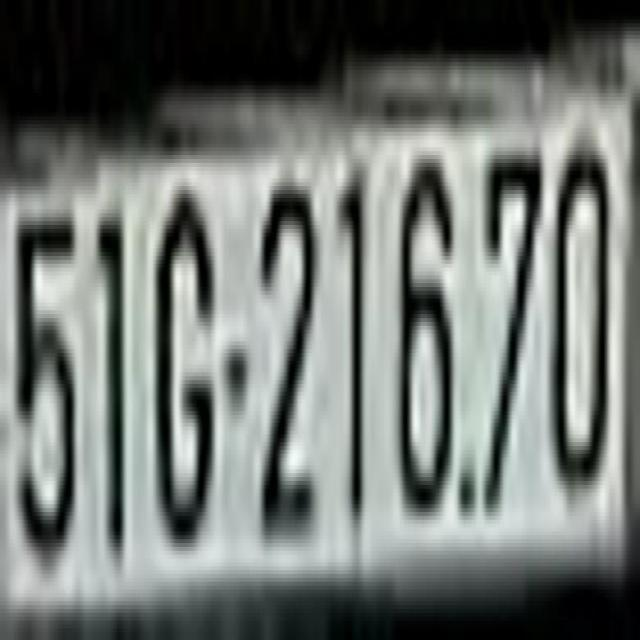0: (550, 132, 610, 504)
1: (336, 163, 366, 551), (98, 206, 128, 582)
2: (256, 182, 318, 558)
5: (13, 198, 79, 566)
6: (398, 144, 456, 544)
7: (476, 136, 544, 524)
G: (154, 186, 216, 566)
